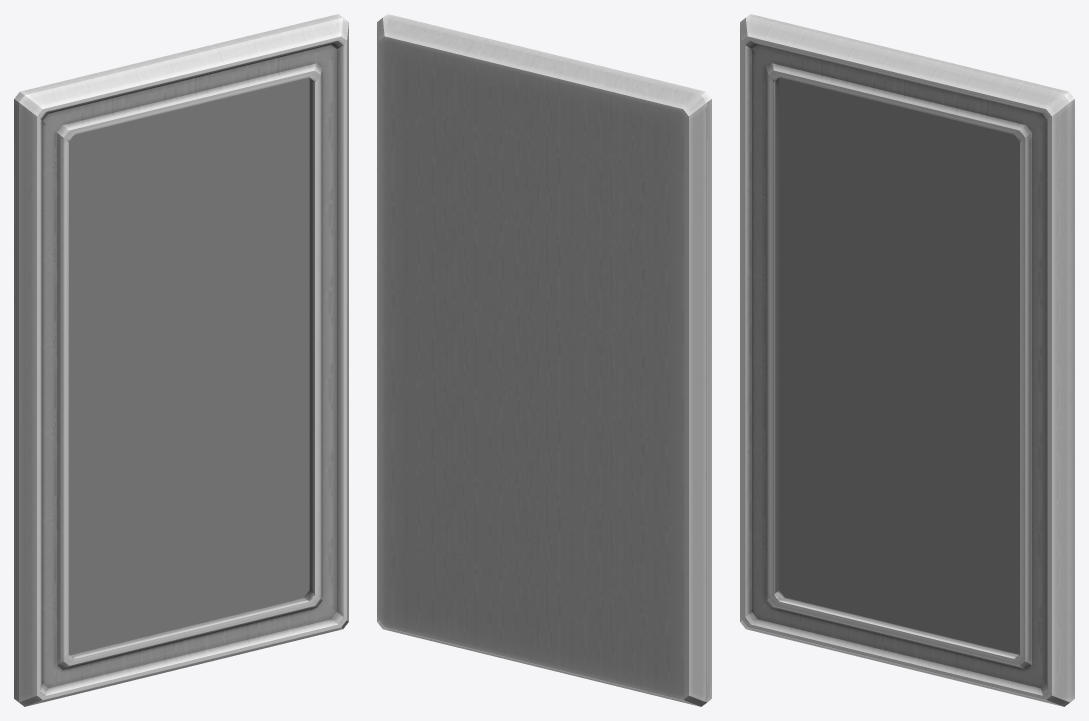
Rendered from Static_Frame_Portrait_Light.FBX.
The picture shows the model from 3 angles, left to right: view 1: azimuth 30°, elevation 25°; view 2: azimuth 150°, elevation 25°; view 3: azimuth 330°, elevation 25°; orthographic projection.
Visible parts, largest first — view 1: Object015, Object016; view 2: Object016; view 3: Object015, Object016.
Part boxes in pixels (x1,y1,x2,y2): Object015: [69, 77, 309, 654]; Object016: [14, 14, 348, 706]; Object016: [377, 14, 711, 706]; Object015: [779, 77, 1019, 654]; Object016: [740, 14, 1074, 706].
Size of the model in its own units: 55.7 by 98.73 by 6.19.
